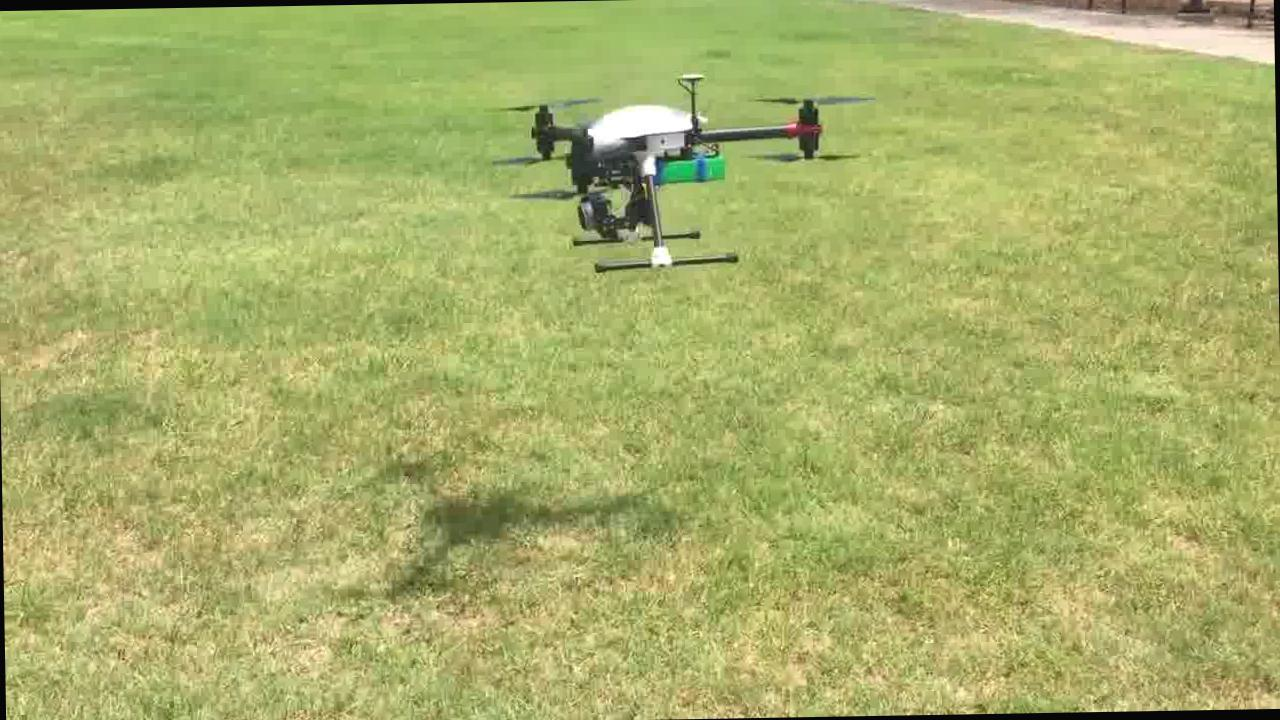drone: (487, 72, 879, 275)
